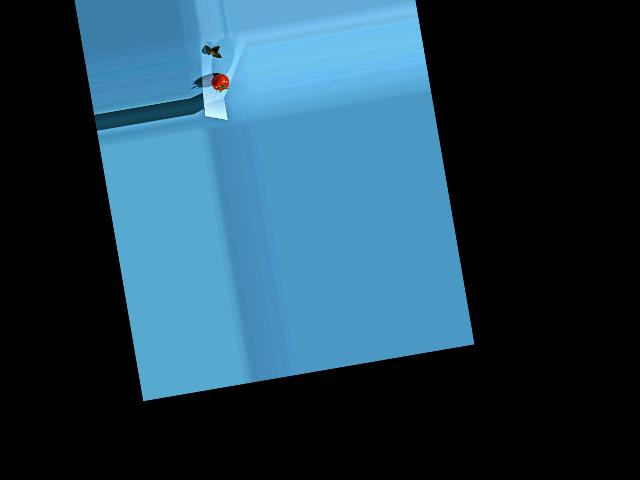tomato: (209, 72, 230, 92)
